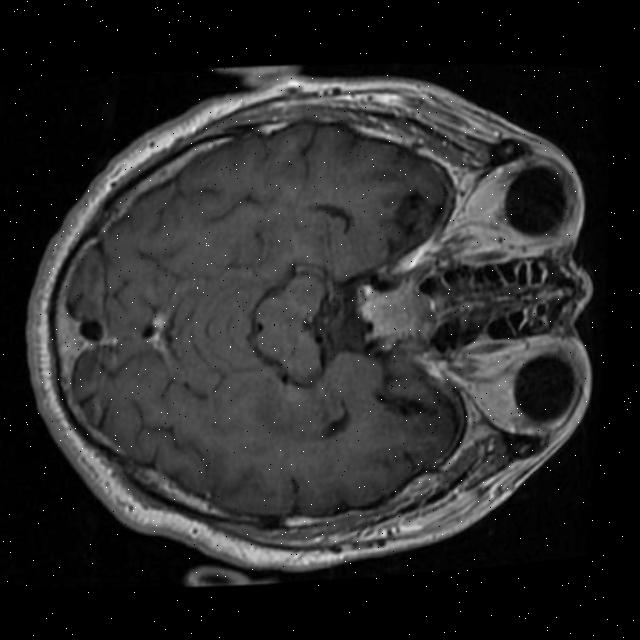Pituitary: (356, 282, 439, 349)
